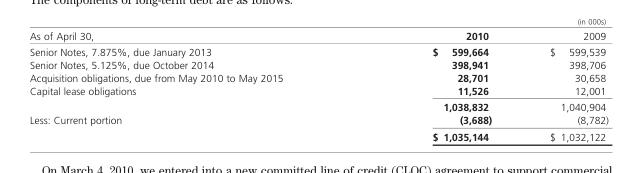table: (29, 29, 607, 141)
table column: (29, 29, 357, 141), (357, 29, 520, 141), (520, 29, 607, 141)
table column header: (29, 29, 607, 43)
table row: (29, 43, 607, 58), (29, 83, 607, 98), (29, 98, 607, 113), (29, 29, 607, 43), (29, 113, 607, 127), (29, 127, 607, 141), (29, 70, 607, 83), (29, 58, 607, 70)
